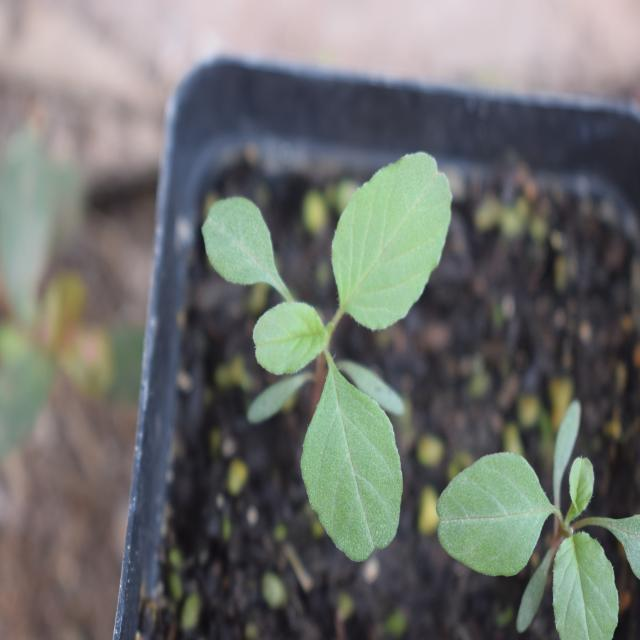pigweed: (196, 144, 459, 548), (437, 399, 635, 626)
